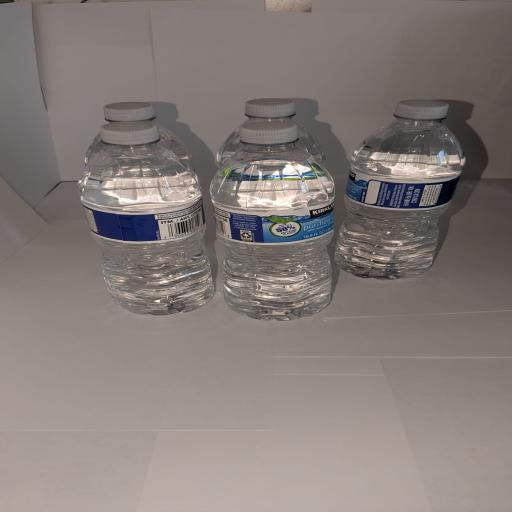waterbottle: (79, 122, 213, 314), (211, 122, 334, 319), (336, 101, 464, 278), (217, 99, 325, 165), (104, 102, 155, 122)
